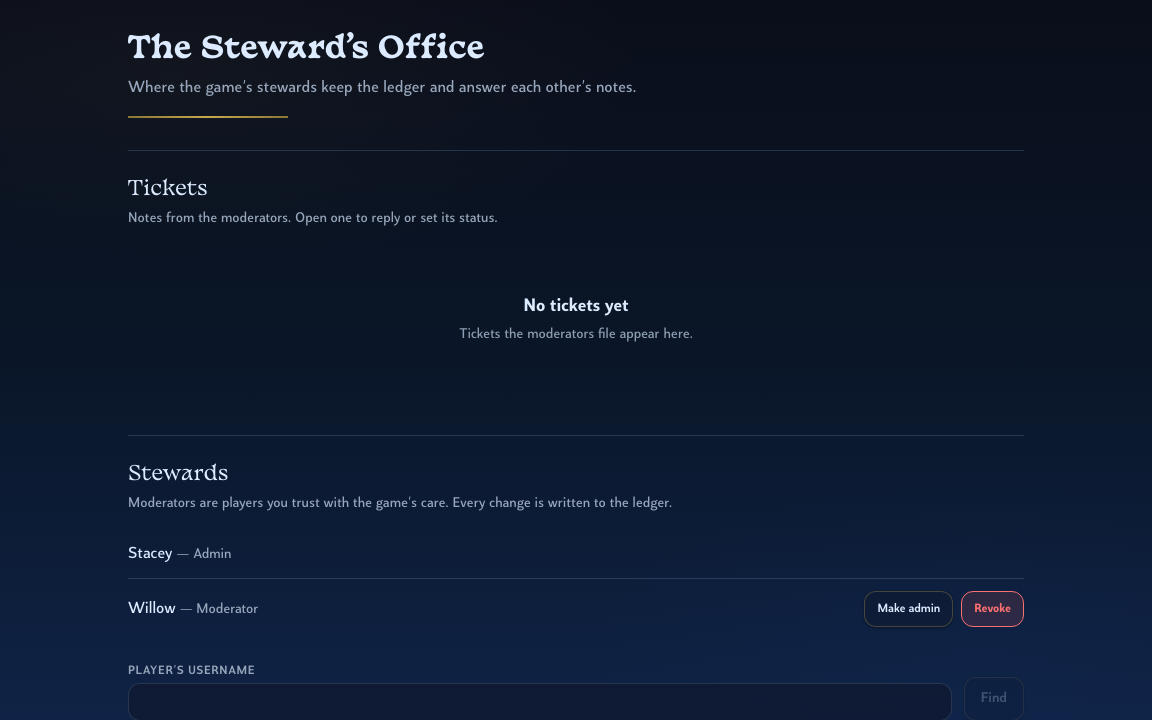
Scenario: The Steward's Office re-checks staff access after a failed check (q263) › closes the office when the next action finds staff access lost
Click the button with aria-label "Revoke Willow".
click(993, 609)  # box [961,591,1024,627]
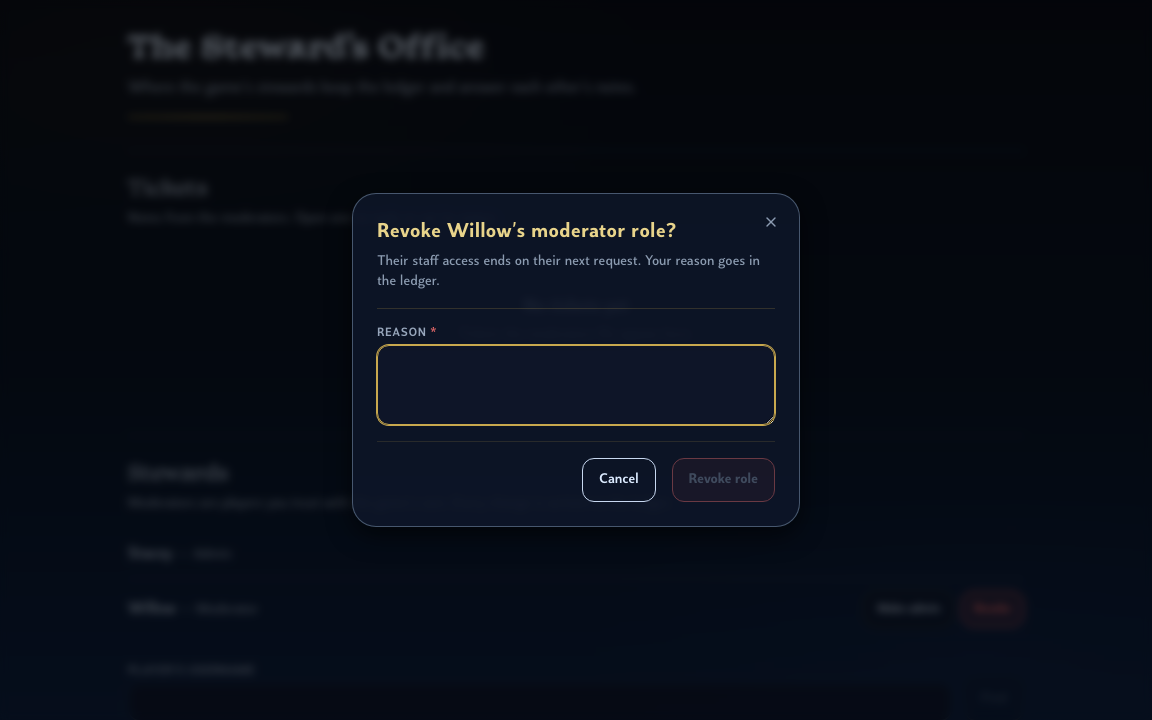
Type "Half-written reason" into the text box labelled "Reason *".
click(576, 385); type("Half-written reason")  # box [377,345,775,425]
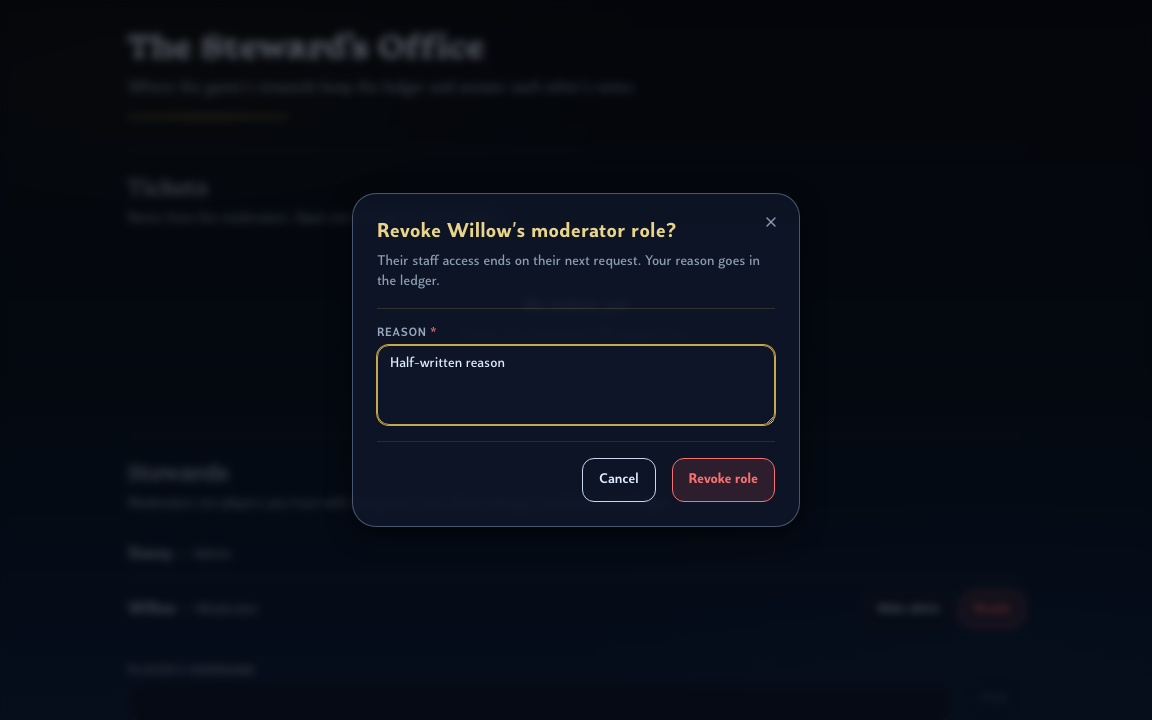
Result: the dialog is shown at [352,193,800,527]
Click the button "Revoke role".
click(723, 480)  # box [672,458,775,502]
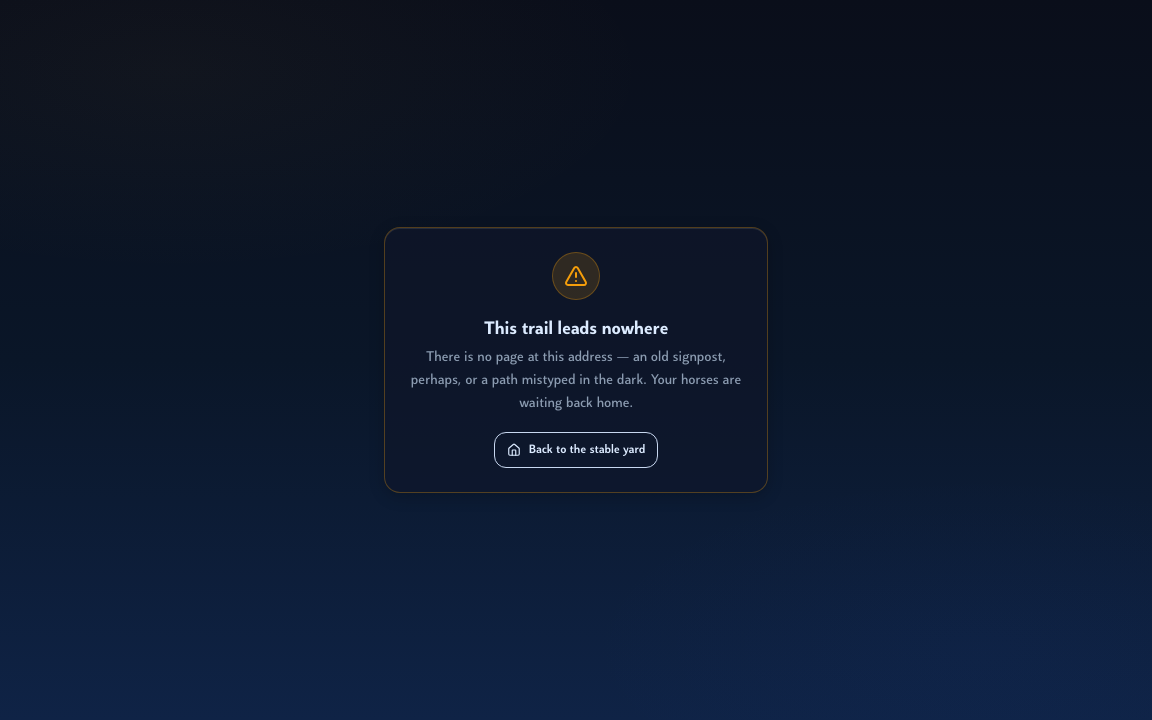
Result: the element with test id "not-found-page" is shown at [384,227,768,493]
